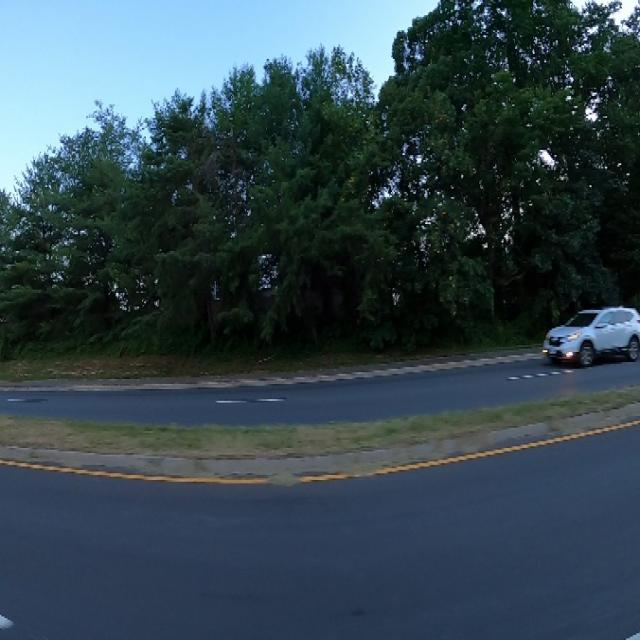cars: (540, 291, 640, 382)
